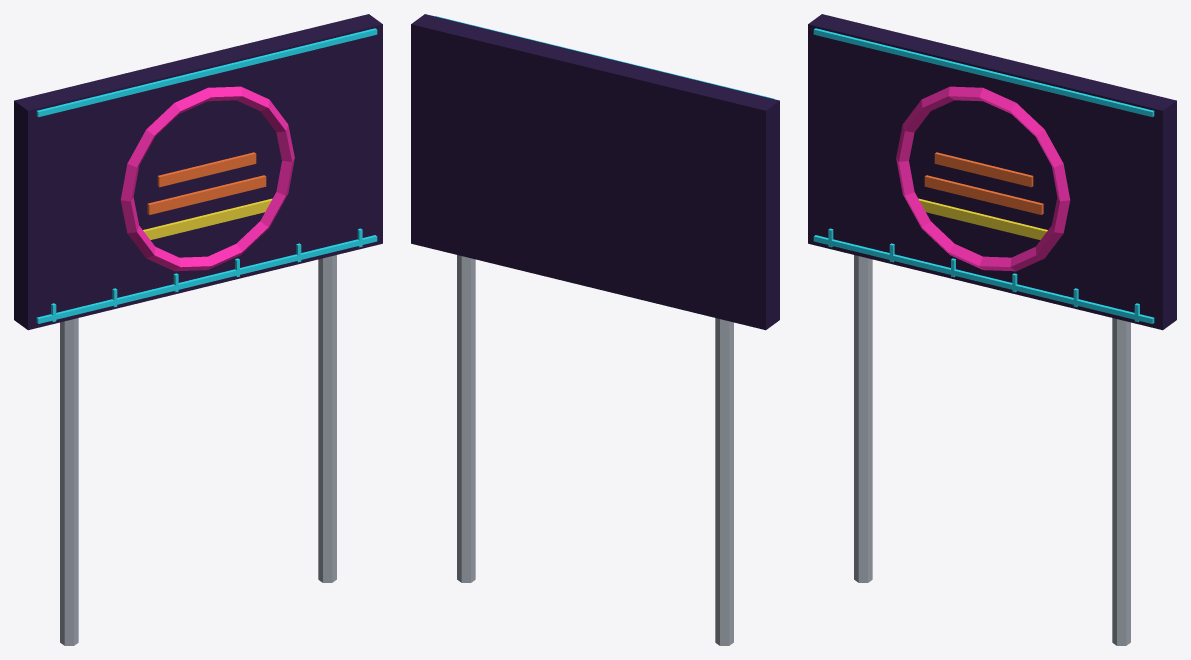
File: SynthwaveSign.fbx
The picture shows the model from 3 angles, left to right: view 1: azimuth 30°, elevation 25°; view 2: azimuth 150°, elevation 25°; view 3: azimuth 330°, elevation 25°; orthographic projection.
Visible parts, largest first — view 1: SynthwaveSign, SynthwaveSign_Glow; view 2: SynthwaveSign; view 3: SynthwaveSign, SynthwaveSign_Glow.
Part boxes in pixels (x1,y1,x2,y2): SynthwaveSign: (14,14,382,645); SynthwaveSign_Glow: (36,28,377,323); SynthwaveSign: (411,14,779,645); SynthwaveSign: (808,14,1176,645); SynthwaveSign_Glow: (813,28,1154,323).
Size of the model in its own units: 440 by 650 by 43.
1 material, 1 textured.
